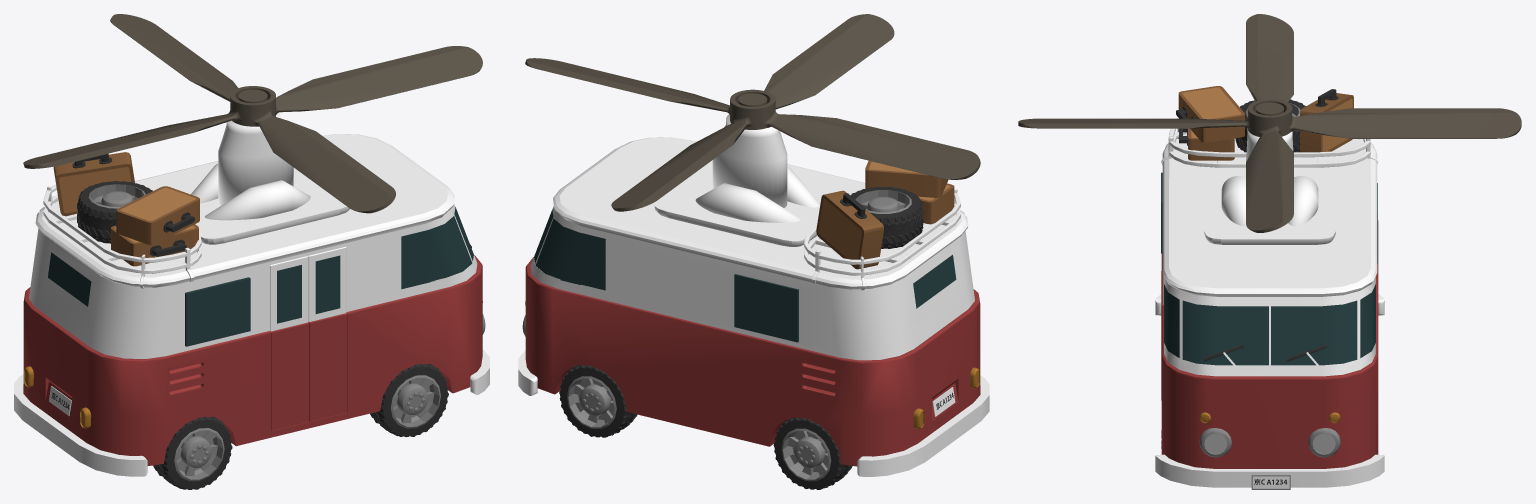
File: bus2.fbx
The picture shows the model from 3 angles, left to right: view 1: azimuth 30°, elevation 25°; view 2: azimuth 150°, elevation 25°; view 3: azimuth 270°, elevation 25°; orthographic projection. The views are drawn at different scales.
Parts seen in each view (by area): view 1: bus_and_forest_0091:bus_and_forest:pCube39, rotor, bus_and_forest_0091:bus_and_forest:pCube7, wheelBackRight, wheelFrontRight, Cylinder, bus_and_forest_0091:bus_and_forest:pCube19, bus_and_forest_0091:bus_and_forest:pCube33, pCube47, bus_and_forest_0091:pCube38, bus_and_forest_0091:bus_and_forest:pCube35, pCube48 (+7 smaller); view 2: bus_and_forest_0091:bus_and_forest:pCube39, rotor, Cylinder, wheelBackLeft, wheelFrontLeft, bus_and_forest_0091:bus_and_forest:pCube19, pCube48, bus_and_forest_0091:bus_and_forest:pCube34, bus_and_forest_0091:pCube38, pCylinder16, pCube45, Cylinder.002 (+5 smaller); view 3: bus_and_forest_0091:bus_and_forest:pCube39, rotor, bus_and_forest_0091:bus_and_forest:pCube19, bus_and_forest_0091:pCube37, pCube47, pCube45, pCube48, Cylinder.002, Cylinder.001, pCube46, bus_and_forest_0091:pCylinder17, cerclelamp2 (+1 smaller).
Part boxes in pixels (<box>): bus_and_forest_0091:bus_and_forest:pCube39: <box>23,134,482,465</box>; rotor: <box>23,14,482,213</box>; bus_and_forest_0091:bus_and_forest:pCube7: <box>270,246,347,431</box>; wheelBackRight: <box>153,416,232,489</box>; wheelFrontRight: <box>370,364,448,437</box>; Cylinder: <box>218,112,293,205</box>; bus_and_forest_0091:bus_and_forest:pCube19: <box>401,207,473,289</box>; bus_and_forest_0091:bus_and_forest:pCube33: <box>185,277,250,346</box>; pCube47: <box>116,186,199,244</box>; bus_and_forest_0091:pCube38: <box>14,374,147,476</box>; bus_and_forest_0091:bus_and_forest:pCube35: <box>277,255,340,323</box>; pCube48: <box>53,152,134,216</box>; bus_and_forest_0091:bus_and_forest:pCube39: <box>525,137,980,466</box>; rotor: <box>525,14,980,211</box>; Cylinder: <box>712,114,787,207</box>; wheelBackLeft: <box>773,417,852,489</box>; wheelFrontLeft: <box>559,365,637,437</box>; bus_and_forest_0091:bus_and_forest:pCube19: <box>534,210,605,290</box>; pCube48: <box>816,190,883,269</box>; bus_and_forest_0091:bus_and_forest:pCube34: <box>734,274,798,342</box>; bus_and_forest_0091:pCube38: <box>857,375,989,476</box>; pCylinder16: <box>851,187,923,248</box>; pCube45: <box>804,188,964,290</box>; Cylinder.002: <box>695,183,800,222</box>; bus_and_forest_0091:bus_and_forest:pCube39: <box>1161,134,1378,468</box>; rotor: <box>1018,14,1521,232</box>; bus_and_forest_0091:bus_and_forest:pCube19: <box>1164,284,1375,365</box>; bus_and_forest_0091:pCube37: <box>1155,454,1384,487</box>; pCube47: <box>1176,86,1244,142</box>; pCube45: <box>1161,117,1378,167</box>; pCube48: <box>1300,89,1353,152</box>; Cylinder.002: <box>1288,176,1318,226</box>; Cylinder.001: <box>1221,176,1246,226</box>; pCube46: <box>1179,128,1234,160</box>; bus_and_forest_0091:pCylinder17: <box>1308,428,1340,457</box>; cerclelamp2: <box>1199,428,1231,457</box>.
Bounding box in the file's own units: 15 × 10.4 × 15.
